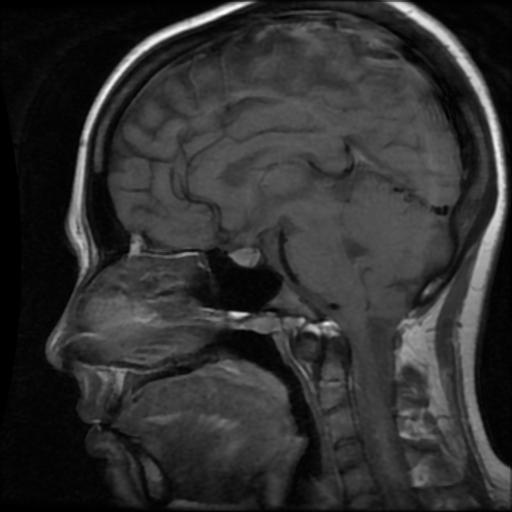Pituirity_tumour: (225, 247, 260, 267)
